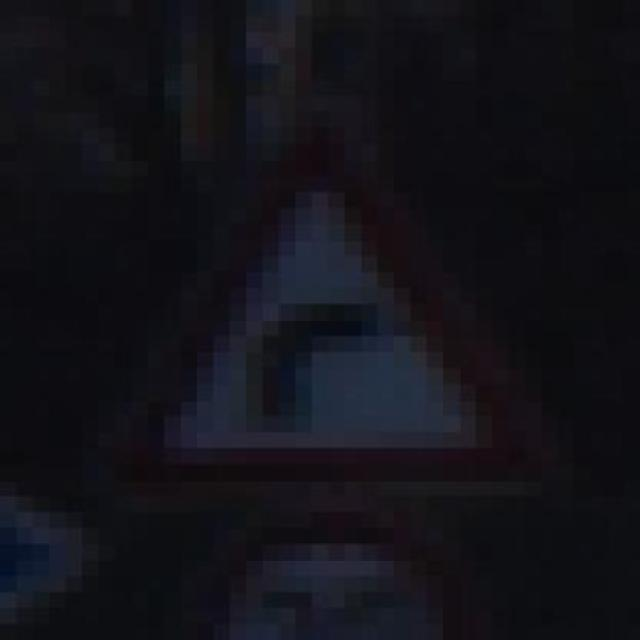Dangerous Rright Curve Ahead: (98, 112, 525, 512)
